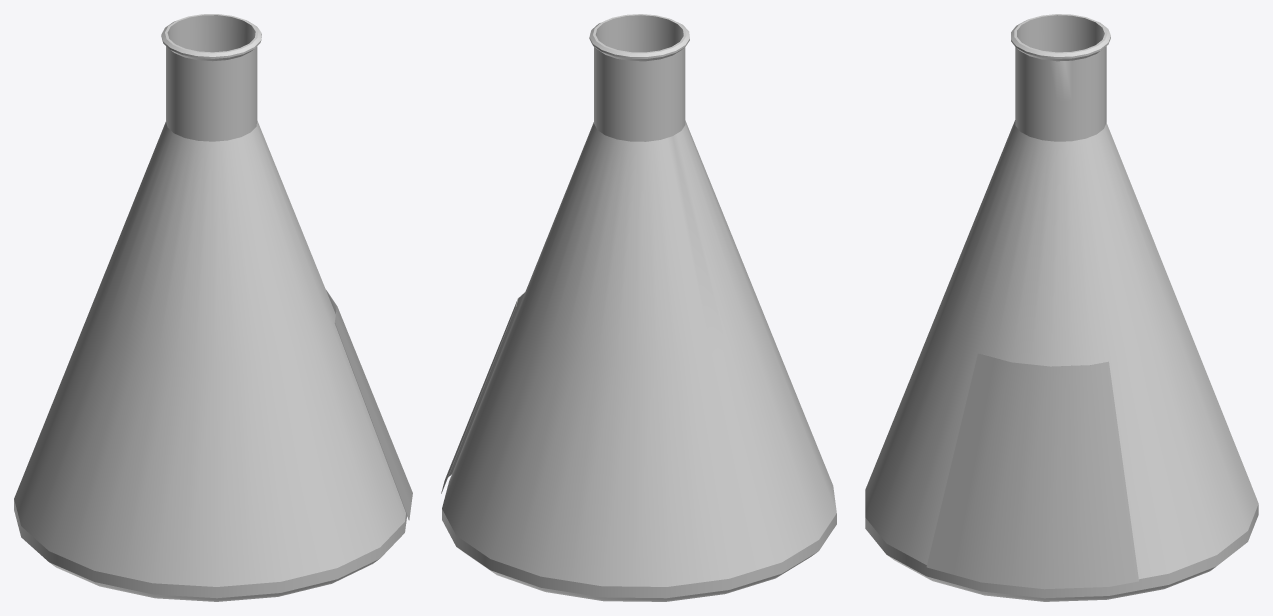
Rendered from Fix-ConicalFlask_2.fbx.
The picture shows the model from 3 angles, left to right: view 1: azimuth 30°, elevation 25°; view 2: azimuth 150°, elevation 25°; view 3: azimuth 270°, elevation 25°; orthographic projection.
Parts seen in each view (by area): view 1: Conical Flask.003; view 2: Conical Flask.003; view 3: Conical Flask.003.
Part boxes in pixels (x1,y1,x2,y2): Conical Flask.003: [14, 14, 412, 601]; Conical Flask.003: [441, 14, 836, 601]; Conical Flask.003: [865, 14, 1258, 601].
Bounding box in the file's own units: 8.93 × 12.19 × 8.79.
Materials: 2 (1 with a texture image).
